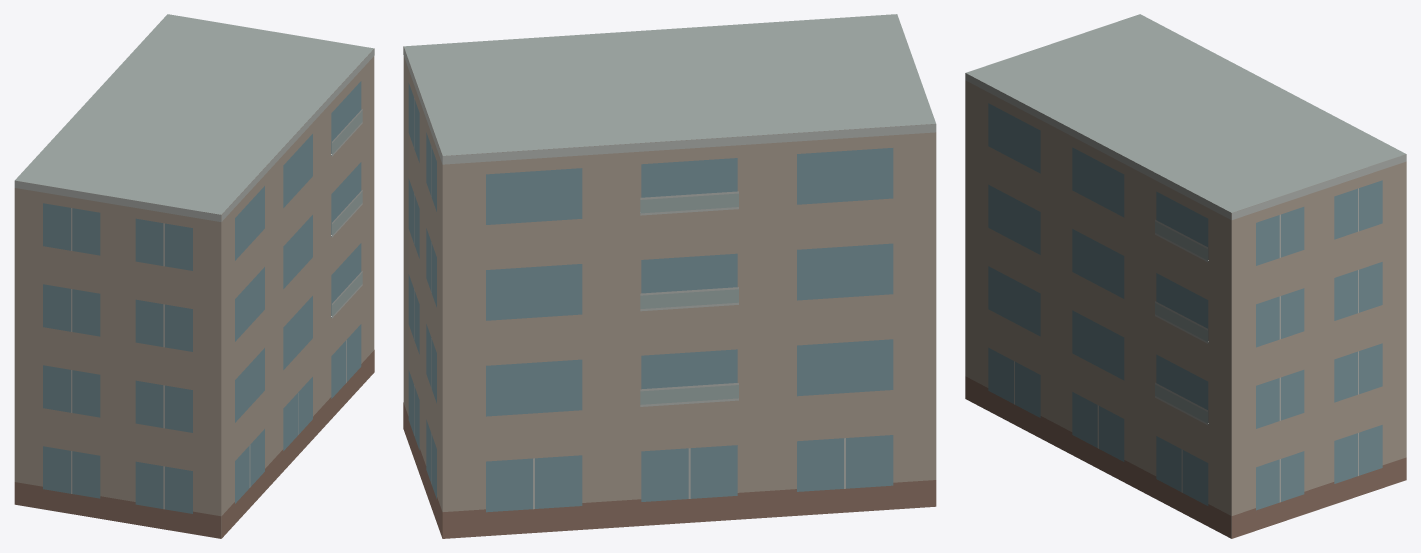
Rendered from survey-upis-33039228.glb.
3 renders of one model, left to right at view 1: azimuth 30°, elevation 25°; view 2: azimuth 150°, elevation 25°; view 3: azimuth 270°, elevation 25°, orthographic. The views are drawn at different scales.
Visible parts, largest first — view 1: survey-upis-33039228.tmp; view 2: survey-upis-33039228.tmp; view 3: survey-upis-33039228.tmp.
Boxes of the visible parts, <box> form: survey-upis-33039228.tmp: <box>14,14,374,538</box>; survey-upis-33039228.tmp: <box>403,14,936,538</box>; survey-upis-33039228.tmp: <box>965,14,1406,538</box>.
Bounding box in the file's own units: 14.14 × 10.8 × 13.26.
